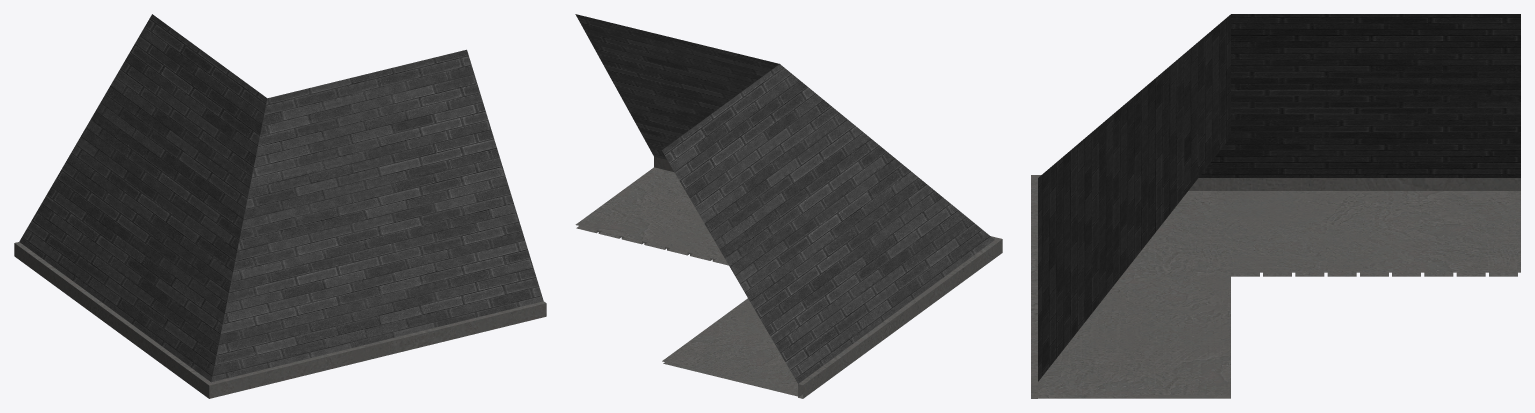
File: Sm_Roof01d03.fbx
3 renders of one model, left to right at view 1: azimuth 30°, elevation 25°; view 2: azimuth 150°, elevation 25°; view 3: azimuth 270°, elevation 25°, orthographic. The views are drawn at different scales.
Visible parts, largest first — view 1: Sm_Roof01d03; view 2: Sm_Roof01d03; view 3: Sm_Roof01d03.
Part boxes in pixels (x1=…): Sm_Roof01d03: x1=14, y1=14, x2=546, y2=398; Sm_Roof01d03: x1=575, y1=14, x2=1002, y2=398; Sm_Roof01d03: x1=1031, y1=14, x2=1520, y2=398.
Bounding box in the file's own units: 254 × 254 × 150.
Materials: 2 (2 with a texture image).
